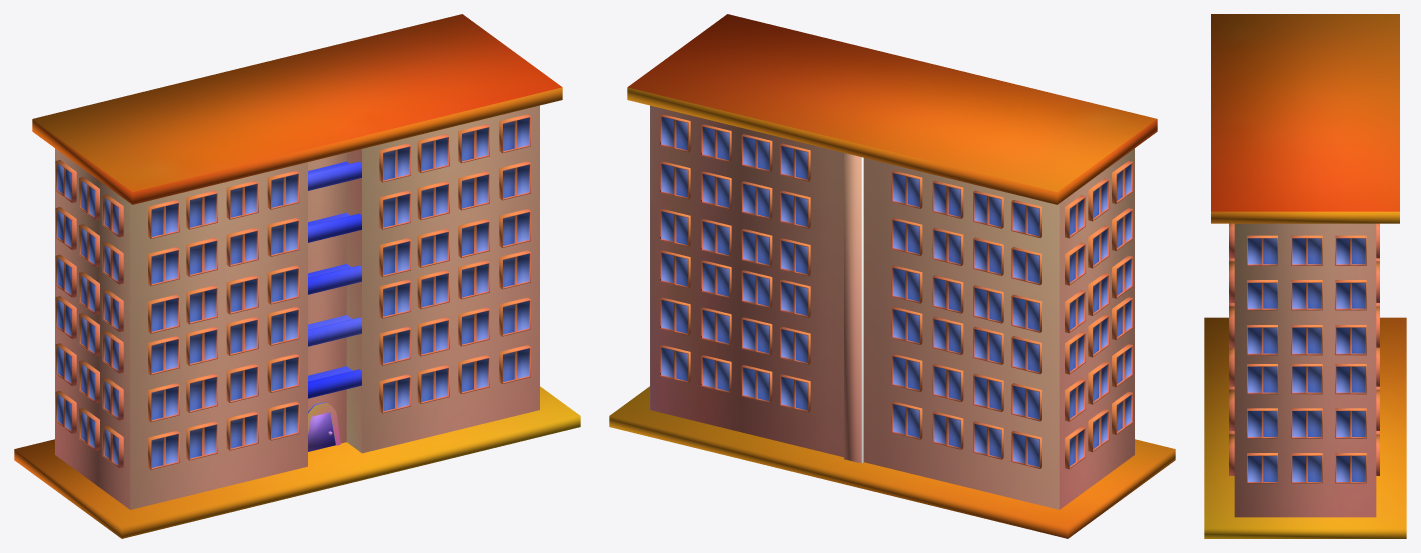
The model's file is House8.fbx.
3 renders of one model, left to right at view 1: azimuth 30°, elevation 25°; view 2: azimuth 150°, elevation 25°; view 3: azimuth 270°, elevation 25°, orthographic. The views are drawn at different scales.
Parts seen in each view (by area): view 1: House.8; view 2: House.8; view 3: House.8.
Boxes of the visible parts, x1,y1,x2,y2 form: House.8: (14,14,580,538); House.8: (609,14,1175,538); House.8: (1204,14,1406,538).
Size of the model in its own units: 3197 by 2268 by 1298.
Materials: 1 (1 with a texture image).
